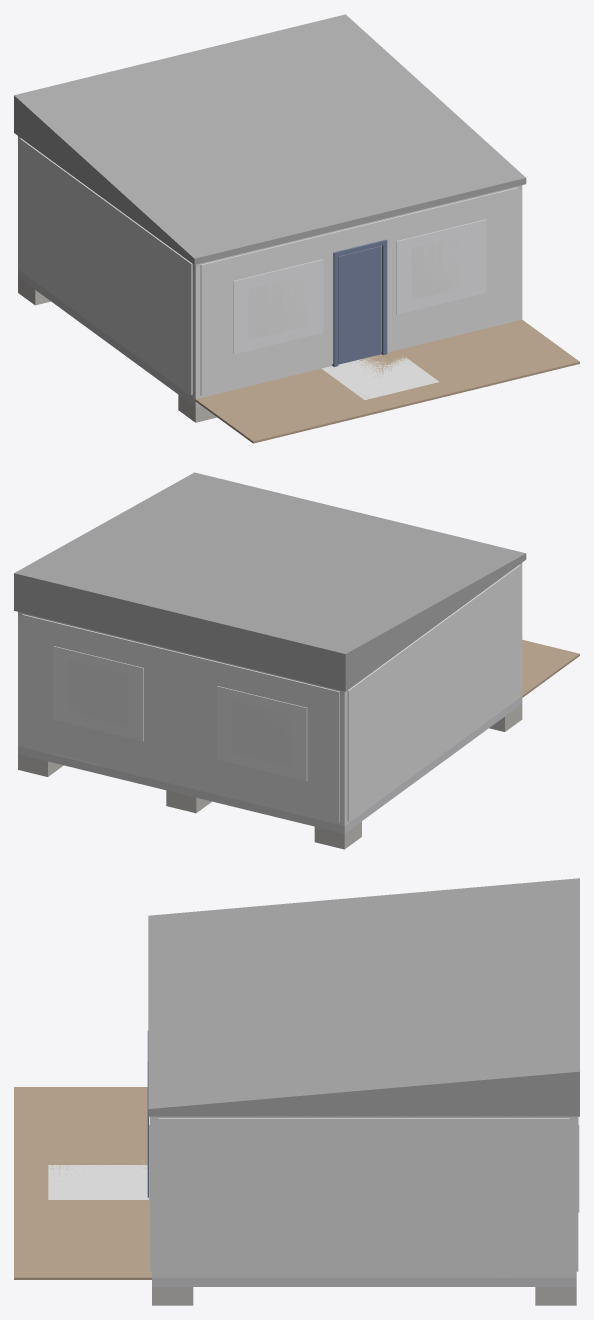
File: Studio-20-Base-AngelWhite.glb
3 renders of one model, top to bottom at view 1: azimuth 30°, elevation 25°; view 2: azimuth 150°, elevation 25°; view 3: azimuth 270°, elevation 25°, orthographic. The views are drawn at different scales.
Visible parts, largest first — view 1: RoofSlopingUpgrade, ExteriorPanelsStandard, TerraceDeck, EntryDoor, LargeWin_Front_R, WindowsLargeUpgrade, WindowsStandard, ExteriorShell, AccessibilityVillage, BaseFrame, AccessibilityRetirement, FoundationBlocks; view 2: RoofSlopingUpgrade, ExteriorPanelsStandard, WindowsStandard, LargeWin_Rear_L, BaseFrame, LargeWin_Rear_R, ExteriorShell, FoundationBlocks, TerraceDeck; view 3: RoofSlopingUpgrade, ExteriorPanelsStandard, TerraceDeck, ExteriorShell, BaseFrame, AccessibilityVillage, FoundationBlocks.
Part boxes in pixels (box(x1,y1,x2,y2)): RoofSlopingUpgrade: box(14, 14, 526, 264); ExteriorPanelsStandard: box(19, 138, 517, 395); TerraceDeck: box(195, 319, 579, 443); EntryDoor: box(332, 239, 387, 366); LargeWin_Front_R: box(396, 219, 486, 314); WindowsLargeUpgrade: box(233, 259, 323, 354); WindowsStandard: box(248, 237, 471, 340); ExteriorShell: box(18, 136, 522, 399); AccessibilityVillage: box(329, 358, 431, 398); BaseFrame: box(18, 269, 200, 406); AccessibilityRetirement: box(322, 357, 438, 399); FoundationBlocks: box(18, 277, 217, 422); RoofSlopingUpgrade: box(14, 472, 526, 691); ExteriorPanelsStandard: box(22, 565, 520, 822); WindowsStandard: box(68, 660, 291, 766); LargeWin_Rear_L: box(217, 686, 307, 781); BaseFrame: box(18, 696, 522, 833); LargeWin_Rear_R: box(53, 646, 143, 741); ExteriorShell: box(18, 563, 522, 825); FoundationBlocks: box(18, 704, 522, 849); TerraceDeck: box(522, 639, 579, 697); RoofSlopingUpgrade: box(148, 878, 579, 1116); ExteriorPanelsStandard: box(150, 1116, 578, 1275); TerraceDeck: box(14, 1087, 151, 1279); ExteriorShell: box(152, 1116, 576, 1277); BaseFrame: box(152, 1277, 576, 1286); AccessibilityVillage: box(48, 1165, 148, 1199); FoundationBlocks: box(152, 1287, 576, 1305).
Bounding box in the file's own units: 6.64 × 3.77 × 8.21.
